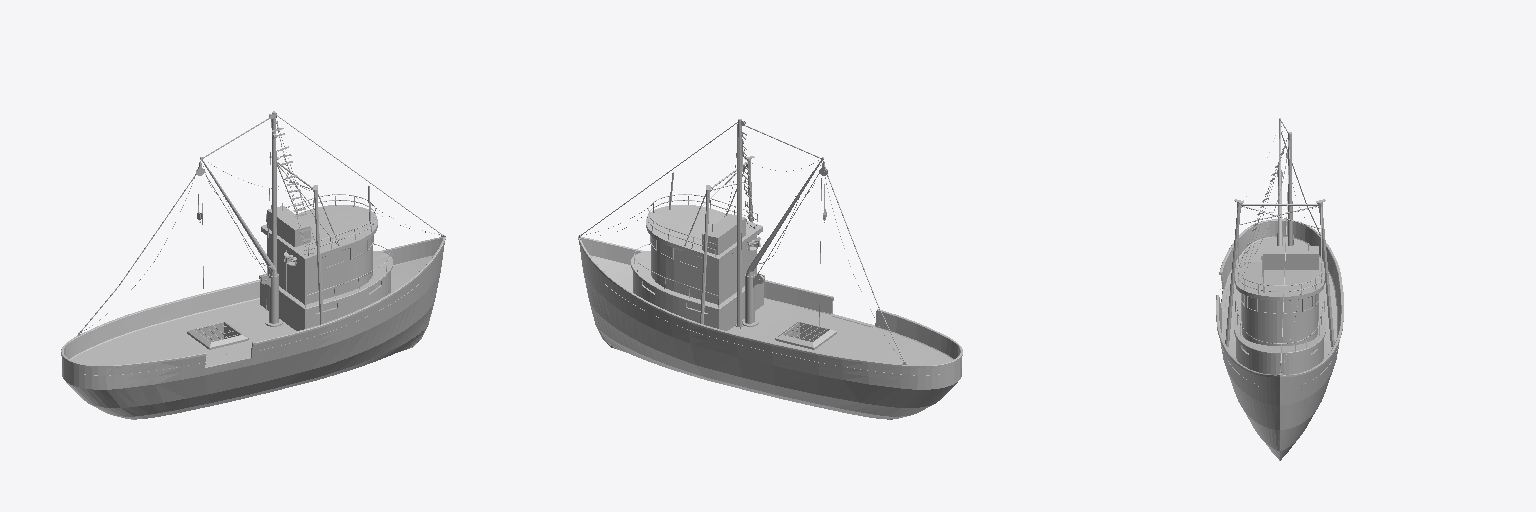
The model's file is boat.obj.
3 views of the same model, side by side, from view 1: azimuth 30°, elevation 25°; view 2: azimuth 150°, elevation 25°; view 3: azimuth 270°, elevation 25° (orthographic).
Visible parts, largest first — view 1: (null); view 2: (null); view 3: (null).
Part boxes in pixels (left/top/right/bottom): (null): left=61, top=111, right=445, bottom=419; (null): left=578, top=119, right=962, bottom=419; (null): left=1216, top=118, right=1343, bottom=460.
Bounding box in the file's own units: 1074 × 724 × 313.